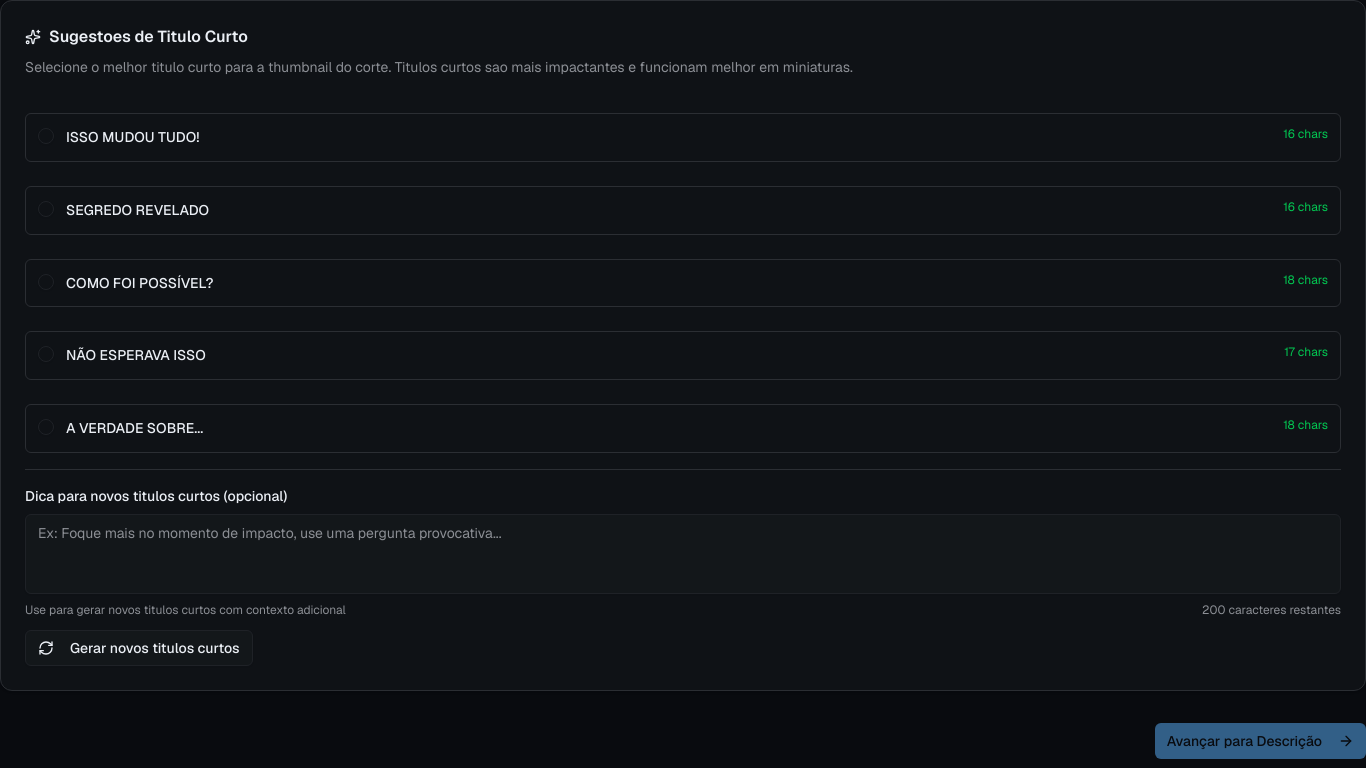
Test case: Phase5BShortTitle › Revalidation › opens confirmation dialog when revalidate button clicked
The image size is (1366, 768).
Click the button "Gerar novos titulos curtos".
click(139, 648)  # box [25,630,253,666]
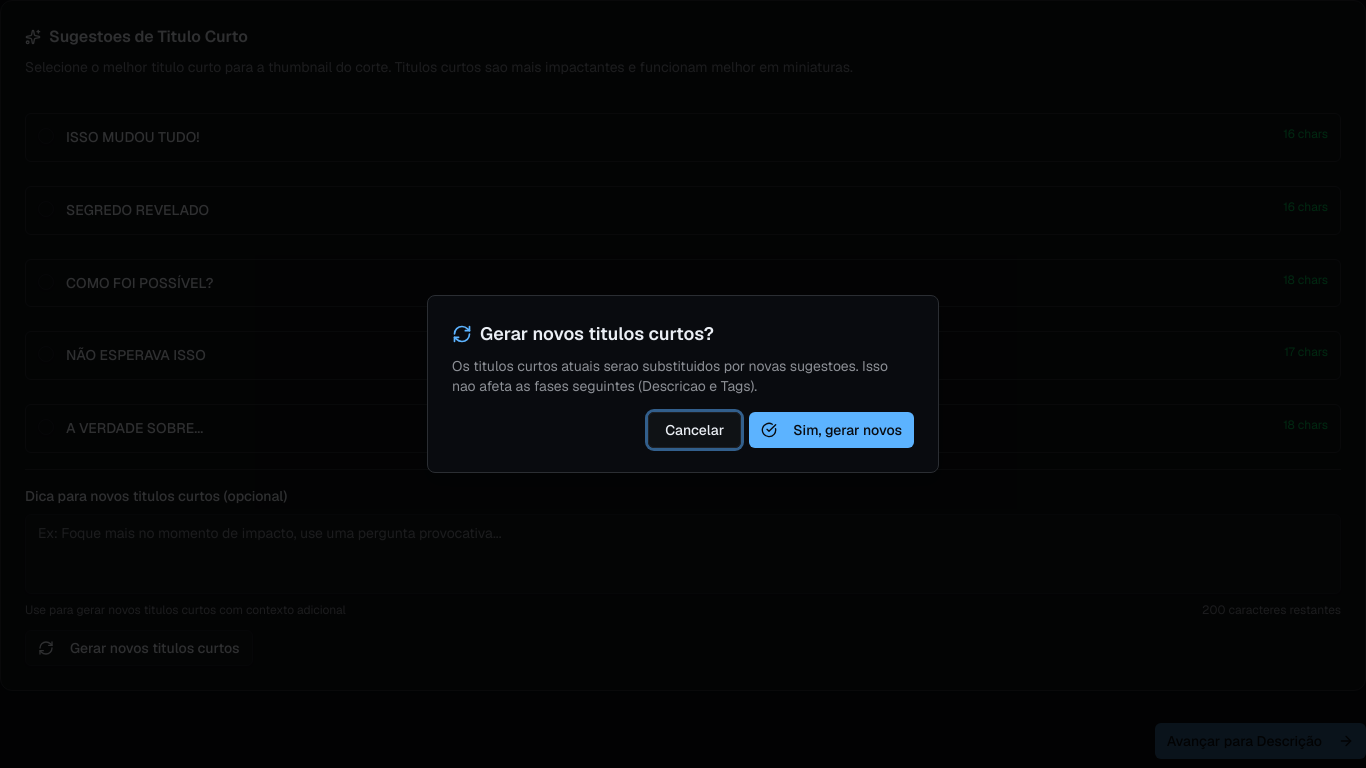
Check: the dialog is shown, box [427,295,939,473]
Check: the heading "Gerar novos titulos curtos?" is shown, box [452,322,714,345]
